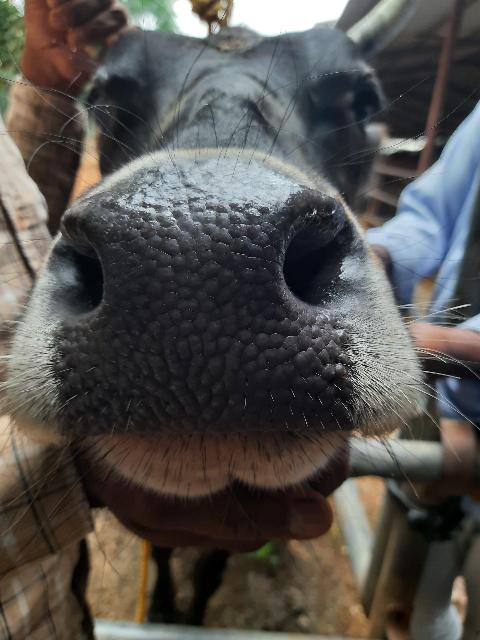Muzzle: (96, 185, 276, 422)
